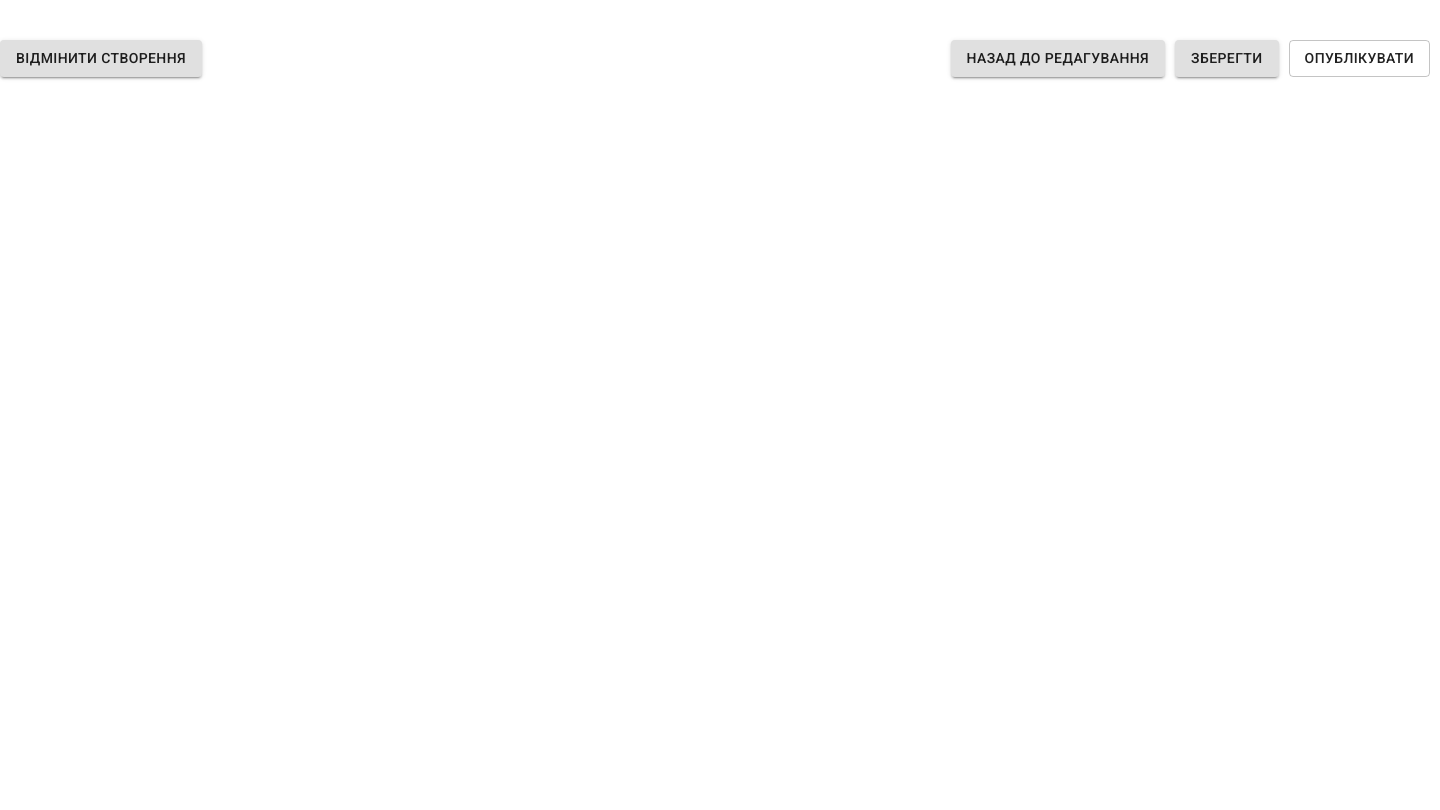
Scenario: PostCreationButton test › should render Confirmation Modal with correct text when user create post
The width and height of the screenshot is (1440, 810).
Click the button "Відмінити створення": (101, 58) [0,40,202,76]
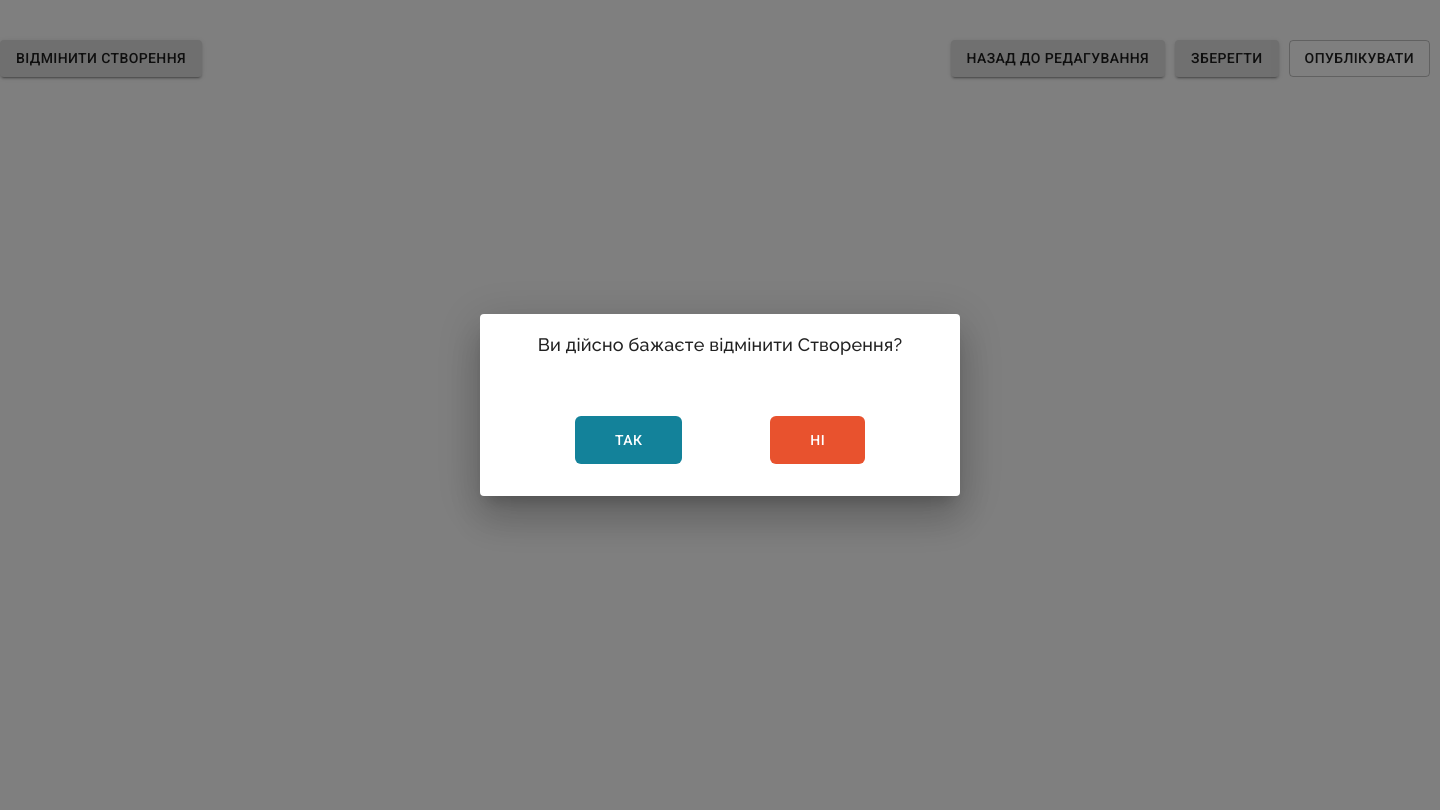
expect the text "Ви дійсно бажаєте відмінити Створення?" is shown: met, box [538,334,902,355]
